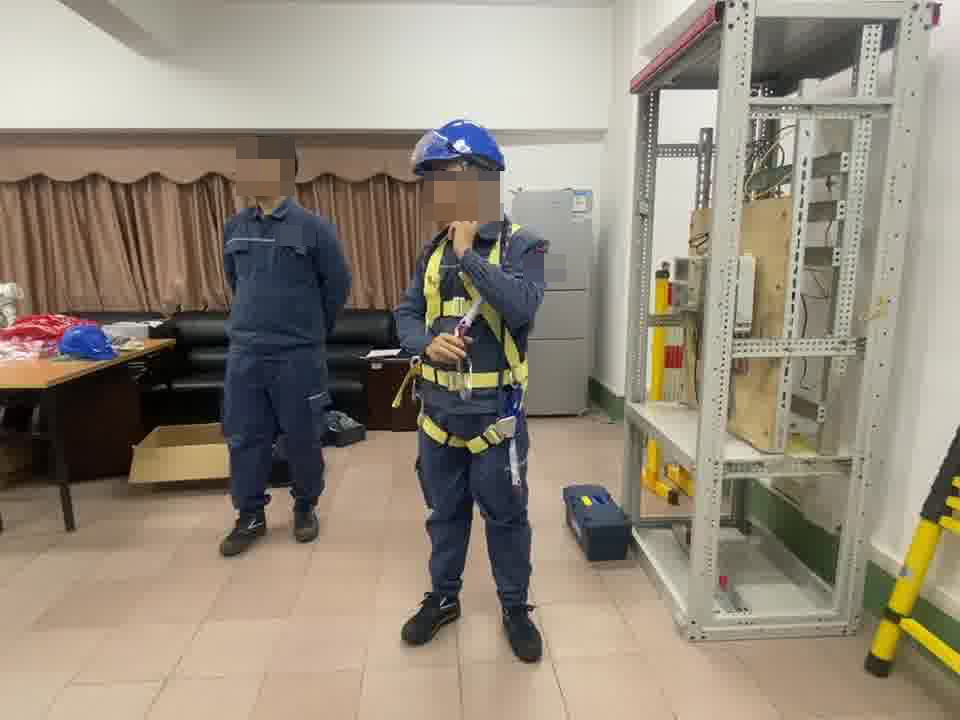downsuit: (417, 403, 536, 609), (220, 363, 328, 509)
halt: (412, 119, 507, 227)
hand: (442, 211, 481, 259), (422, 332, 475, 366)
inear: (458, 166, 491, 200)
noear: (274, 163, 297, 189)
person: (392, 115, 554, 658), (212, 134, 354, 544)
safebelt: (399, 225, 541, 452)
sleeve: (528, 248, 558, 279)
unhalt: (241, 134, 302, 206)
upsuit: (402, 214, 550, 381), (221, 199, 351, 351)
